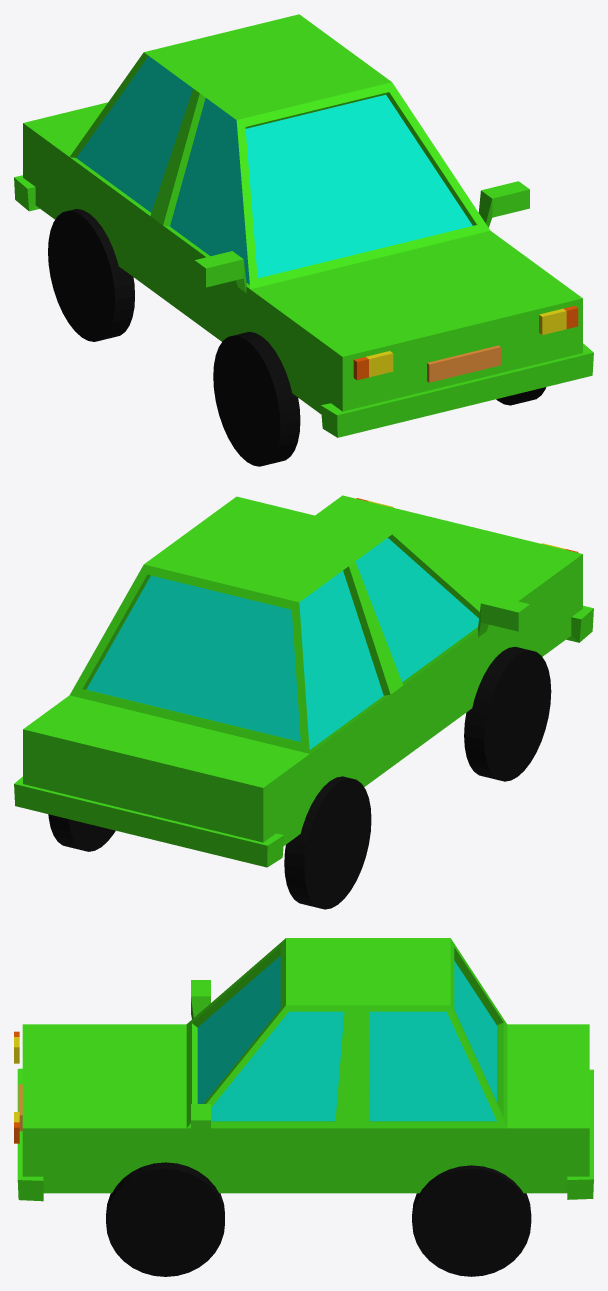
File: car1.fbx
The picture shows the model from 3 angles, top to bottom: view 1: azimuth 30°, elevation 25°; view 2: azimuth 150°, elevation 25°; view 3: azimuth 270°, elevation 25°; orthographic projection. The views are drawn at different scales.
Visible parts, largest first — view 1: Cube, Cylinder, Cylinder.001, Cube.003, Cube.001, Cube.004; view 2: Cube, Cylinder.001, Cylinder, Cube.003; view 3: Cube, Cylinder, Cylinder.001, Cube.003.
Part boxes in pixels (x1,y1,x2,y2): Cube: [14, 14, 593, 437]; Cylinder: [213, 331, 546, 466]; Cylinder.001: [48, 209, 134, 341]; Cube.003: [194, 181, 529, 292]; Cube.001: [353, 306, 578, 380]; Cube.004: [427, 345, 500, 382]; Cube: [14, 495, 593, 867]; Cylinder.001: [48, 776, 371, 909]; Cylinder: [464, 646, 551, 781]; Cube.003: [477, 595, 529, 637]; Cube: [17, 938, 593, 1201]; Cylinder: [106, 1162, 224, 1276]; Cylinder.001: [412, 1165, 531, 1276]; Cube.003: [191, 980, 210, 1137].
Bounding box in the file's own units: 332 × 276 × 581.
